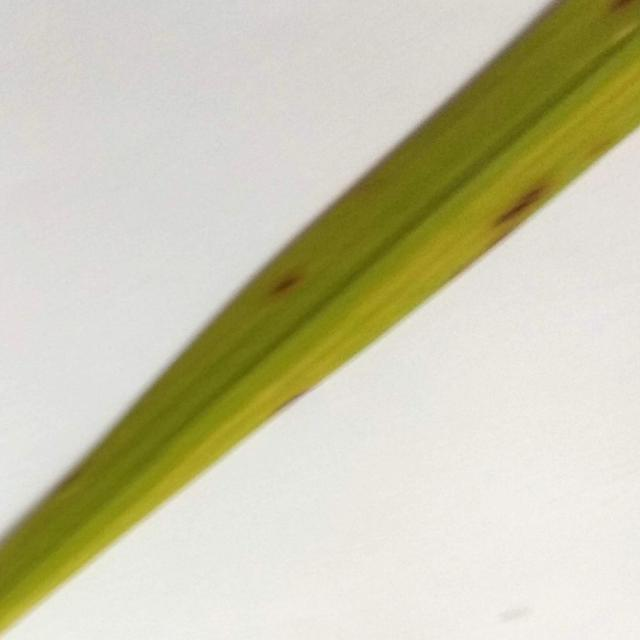Brown spot: (250, 251, 308, 335), (468, 166, 546, 228), (598, 0, 639, 27)
